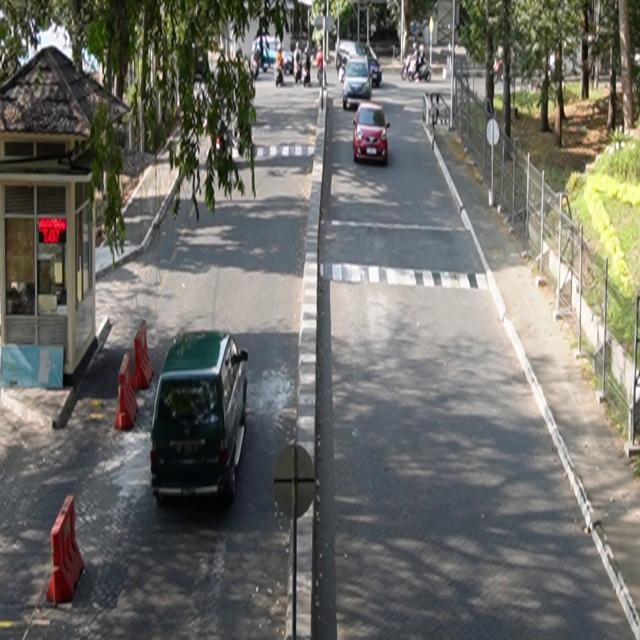car: (151, 330, 249, 507), (353, 102, 391, 166)
